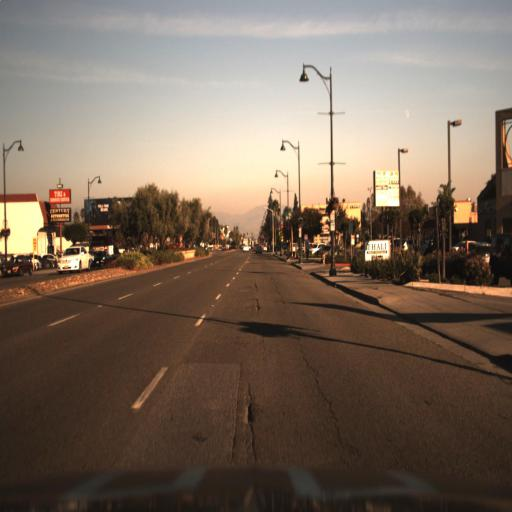car: (58, 245, 93, 274), (91, 248, 116, 270)
